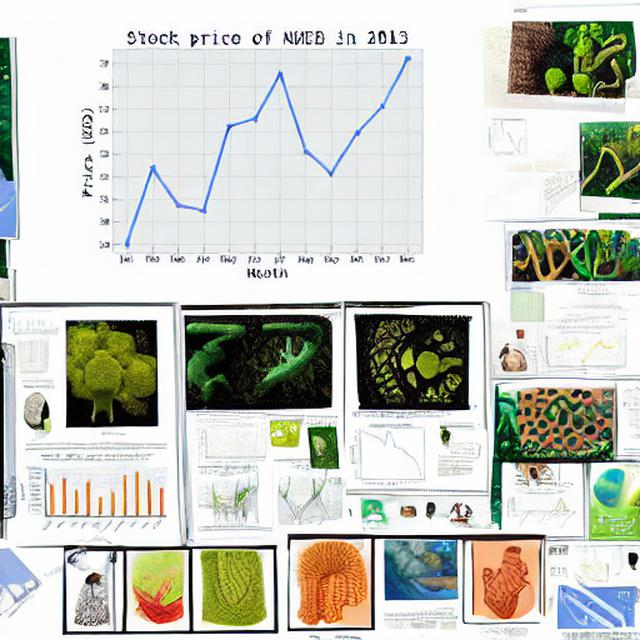Graph: (63, 0, 462, 299), (18, 452, 170, 542), (347, 420, 436, 487), (537, 324, 625, 375), (504, 487, 578, 530), (198, 425, 266, 464), (480, 116, 538, 156), (3, 308, 60, 342)
